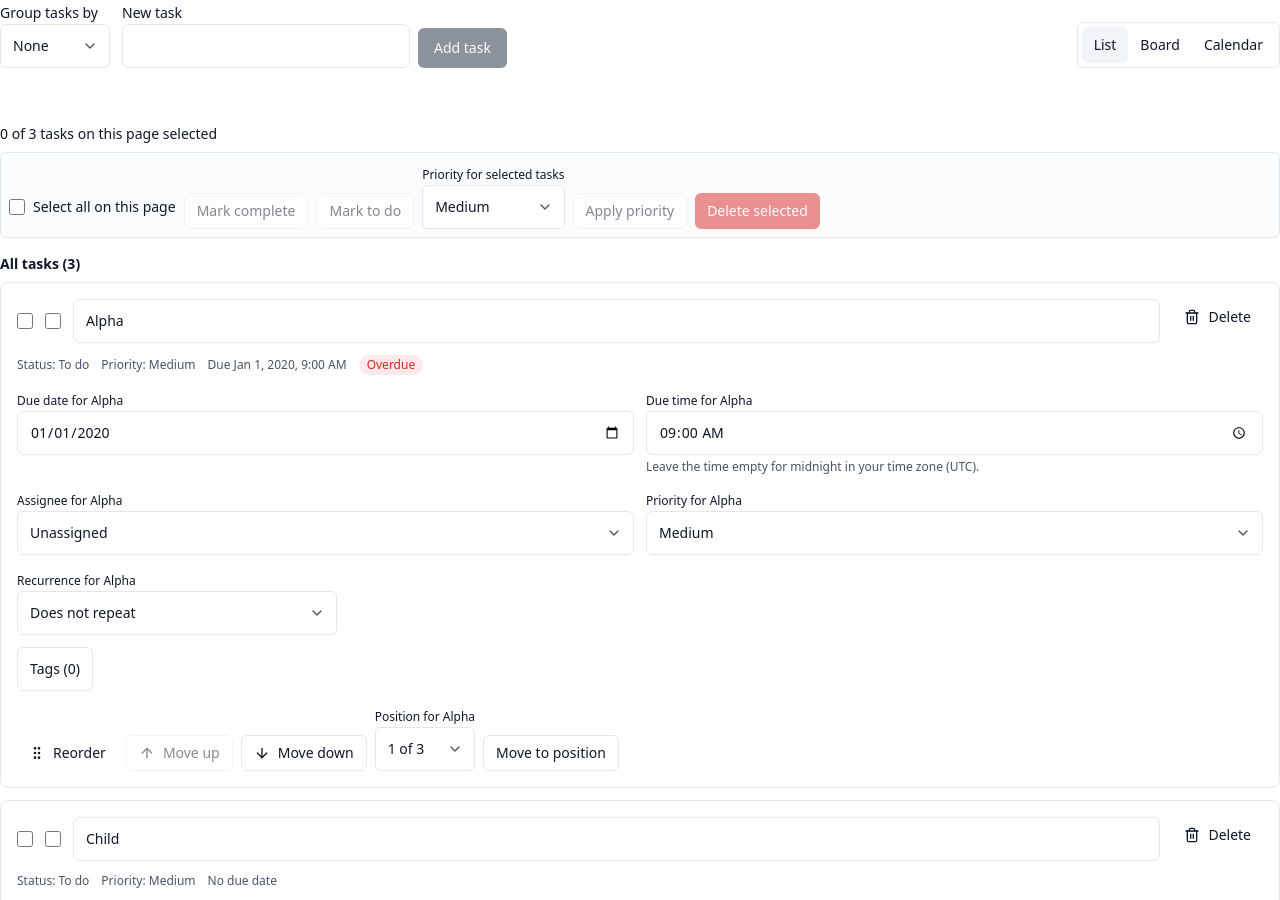
it: TaskListView › names the cascaded subtasks before deleting and reports the true total after
Step 1. Click the 1st checkbox named "Select Alpha" → coordinates (25, 321), box [17,313,33,329]
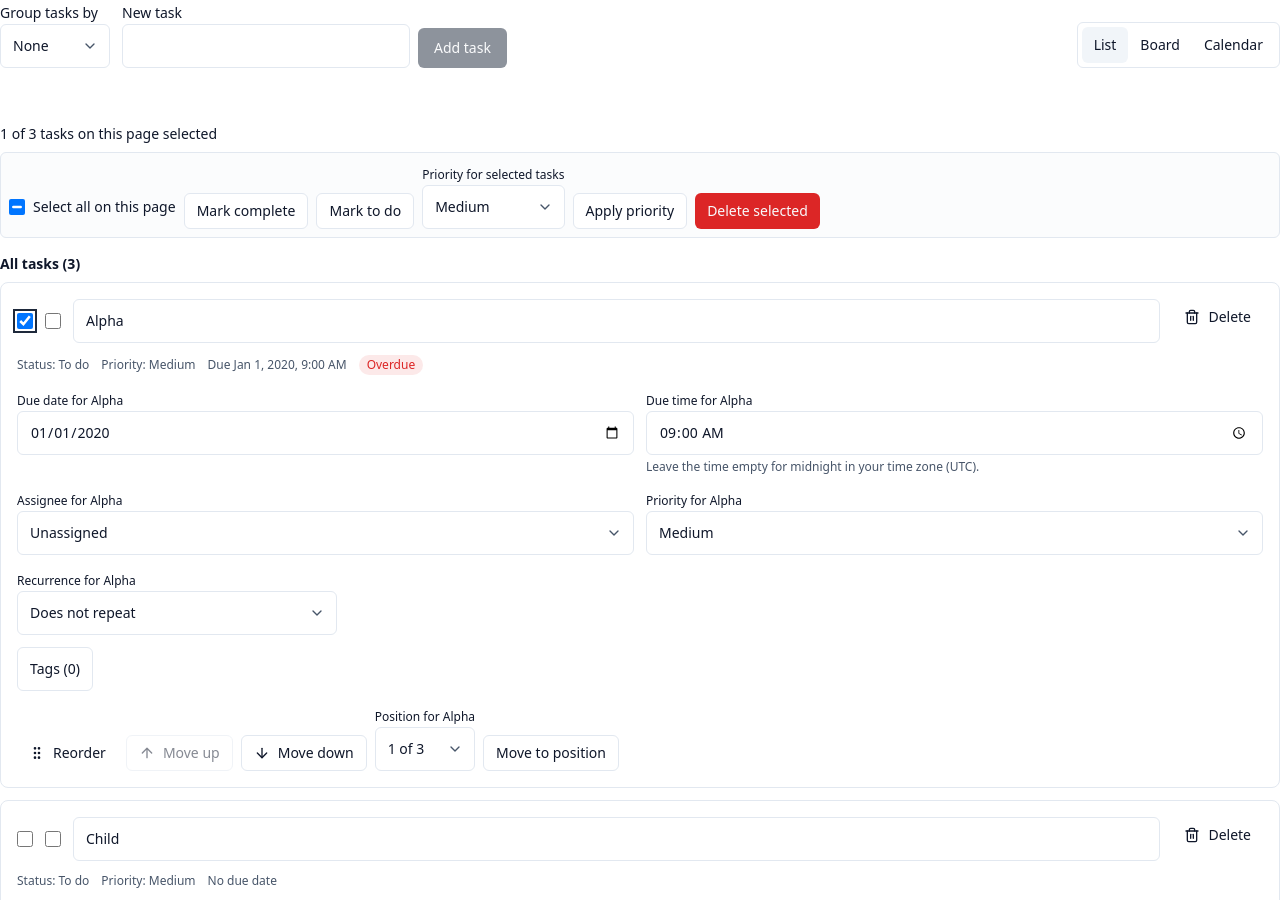
Step 2. Click the button "Delete selected" → coordinates (757, 211), box [695,193,820,229]
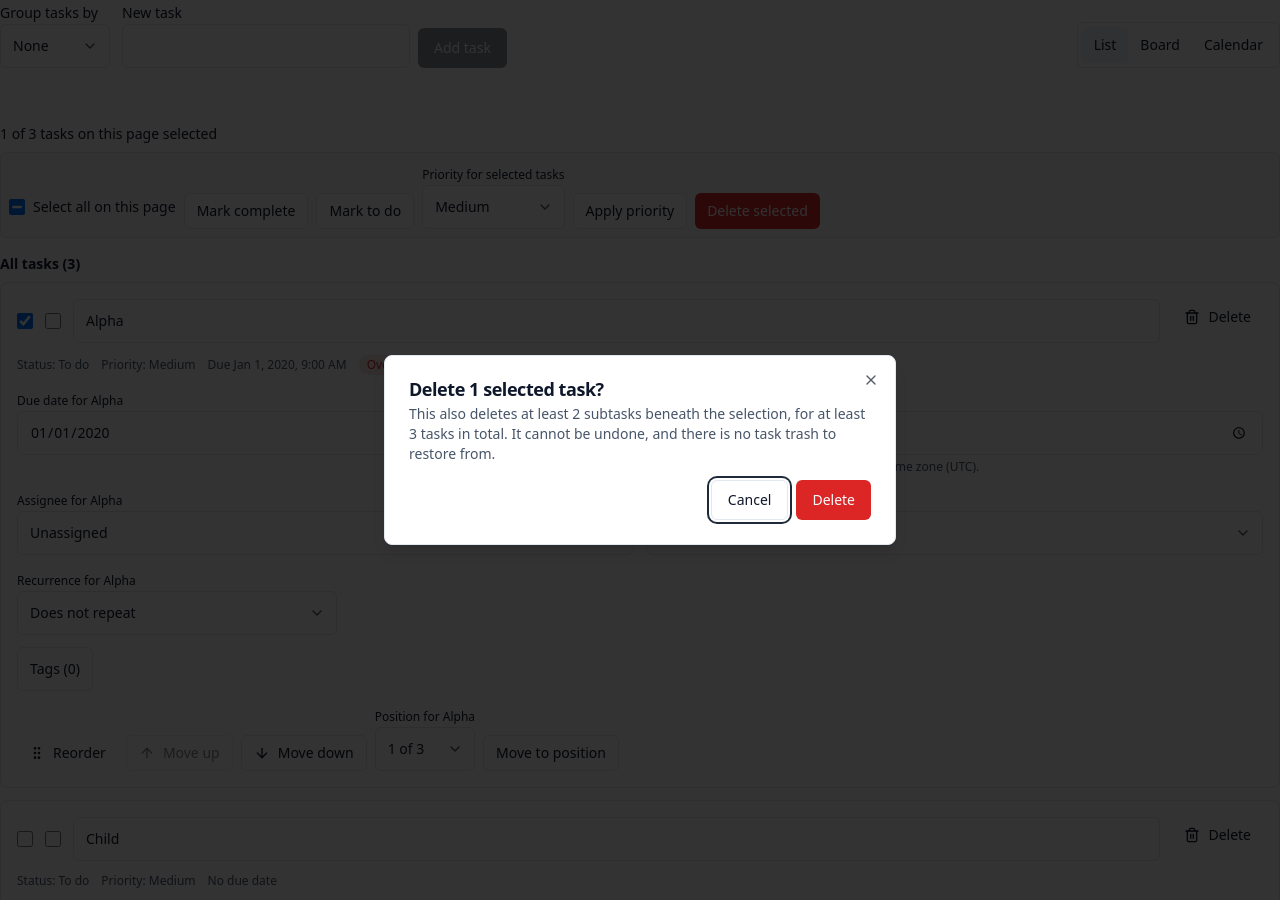
Check: the text "at least 3 tasks in total" is shown, box [409,404,865,463]
Step 3. Click the button "Delete" → coordinates (834, 500), box [796,480,871,520]
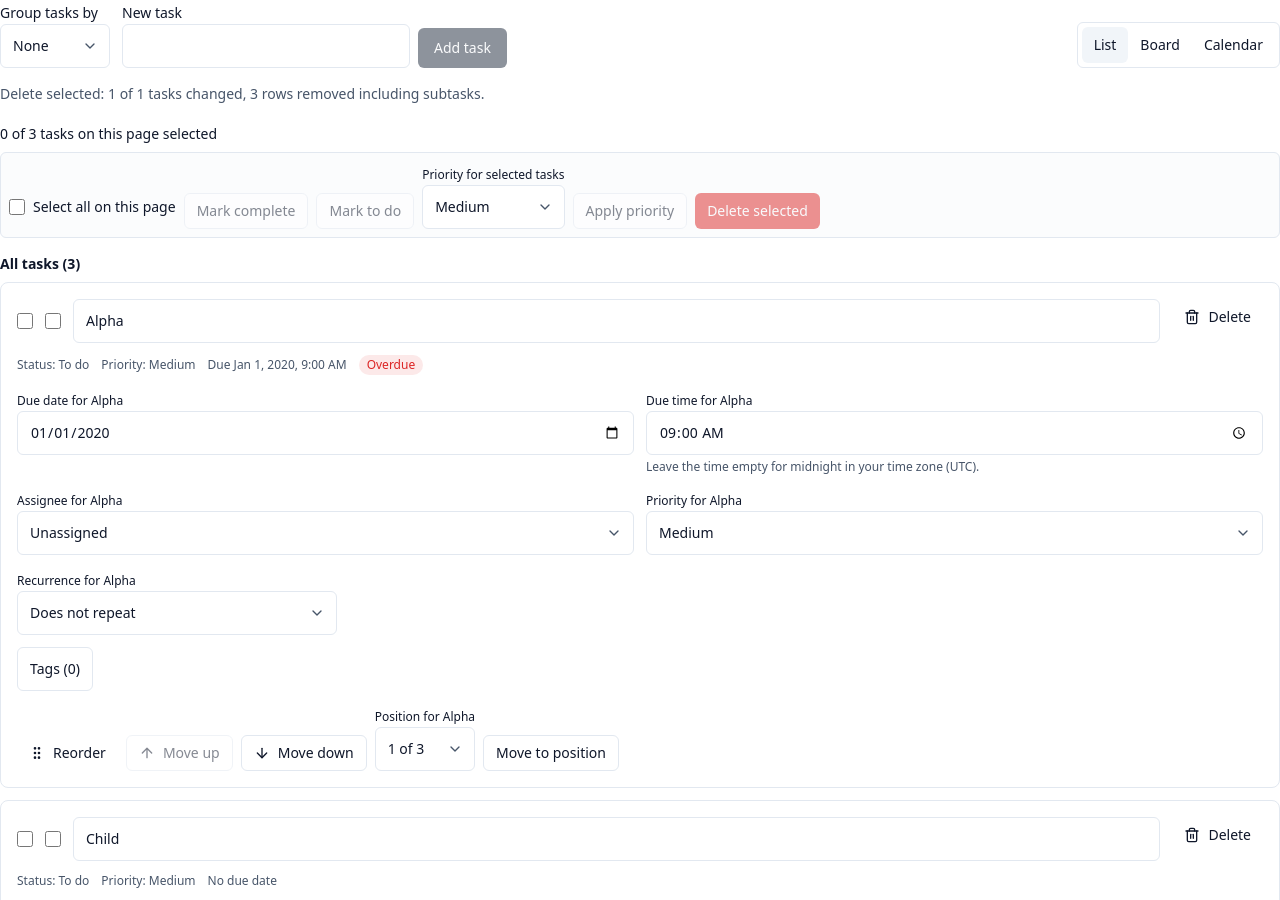
Check: the text "Delete selected: 1 of 1 tasks changed, 3 rows removed including subtasks." is shown, box [0,84,485,103]
